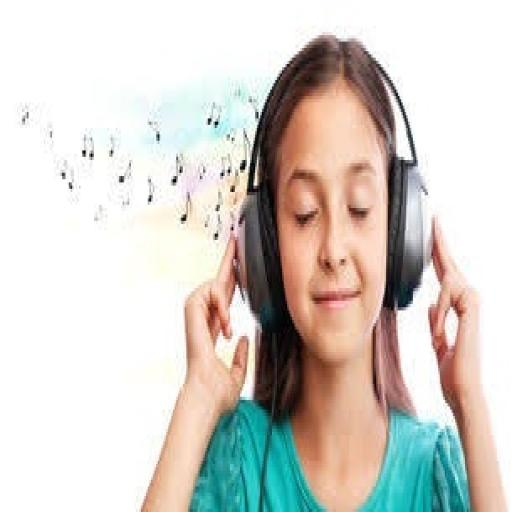listening_to_music: (138, 32, 510, 509)
